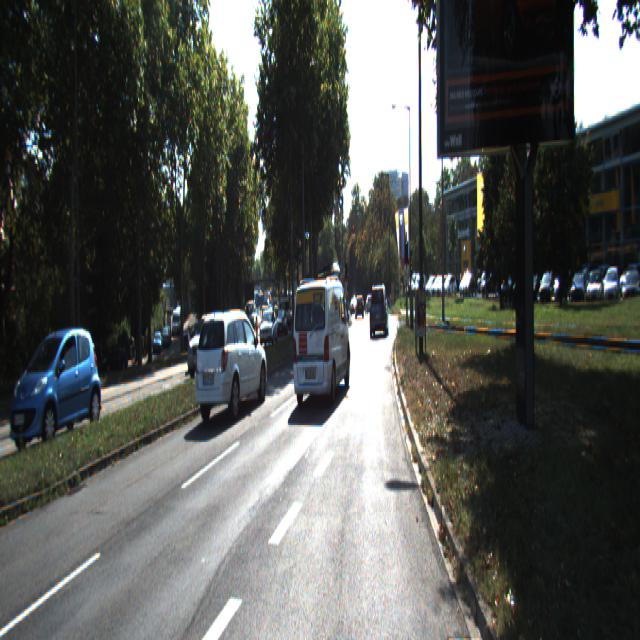Car: (8, 330, 103, 458), (194, 302, 268, 422), (291, 274, 352, 407), (186, 312, 231, 376), (308, 268, 342, 323), (369, 283, 388, 340), (260, 308, 278, 349)
